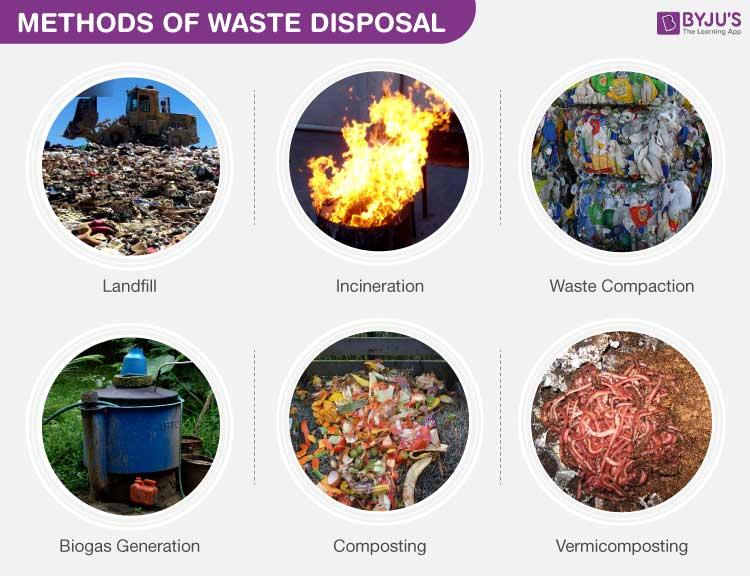road: (9, 1, 679, 43)
